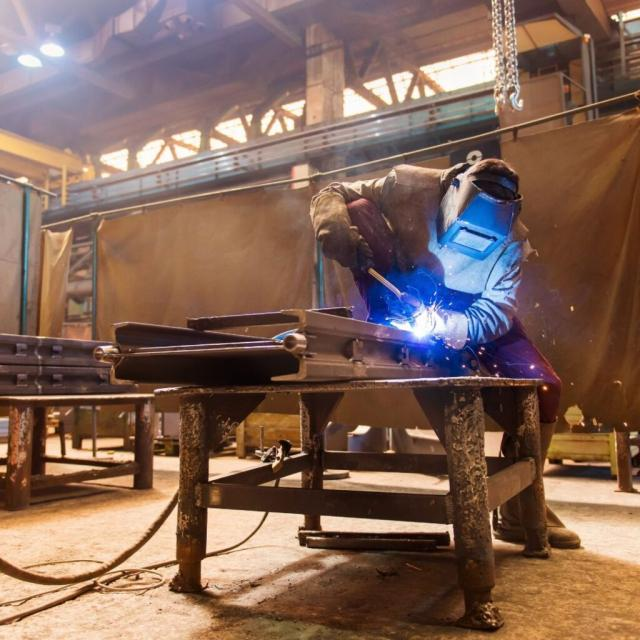welding: (414, 311, 447, 336)
